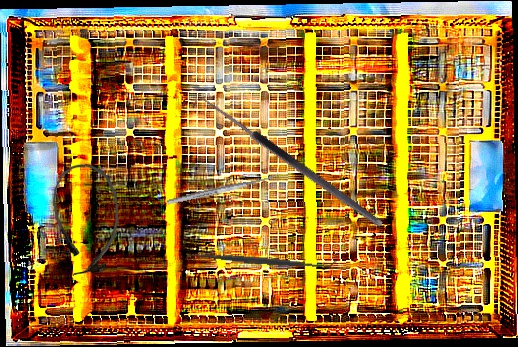Cannula: (50, 161, 123, 277)
Hook Surgical: (190, 91, 385, 238)
Spatula Surgical: (184, 245, 338, 276)
Surgical Spoon: (166, 173, 281, 206)
